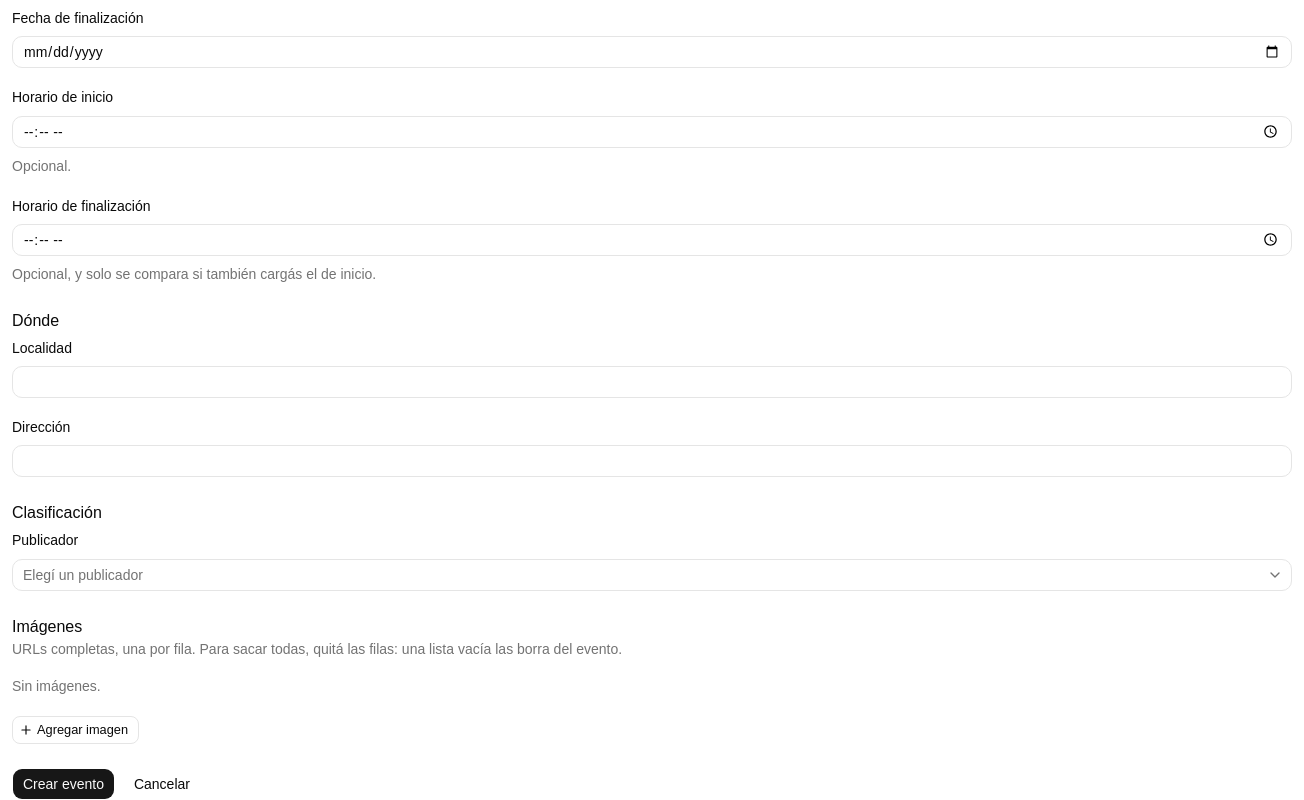
Scenario: EventoNuevoPage › no manda nada si se envía vacío y muestra los errores de campo
(page scrolled)
Click the button "Crear evento" at (63, 784), box [12,768,115,799]
(page scrolled)
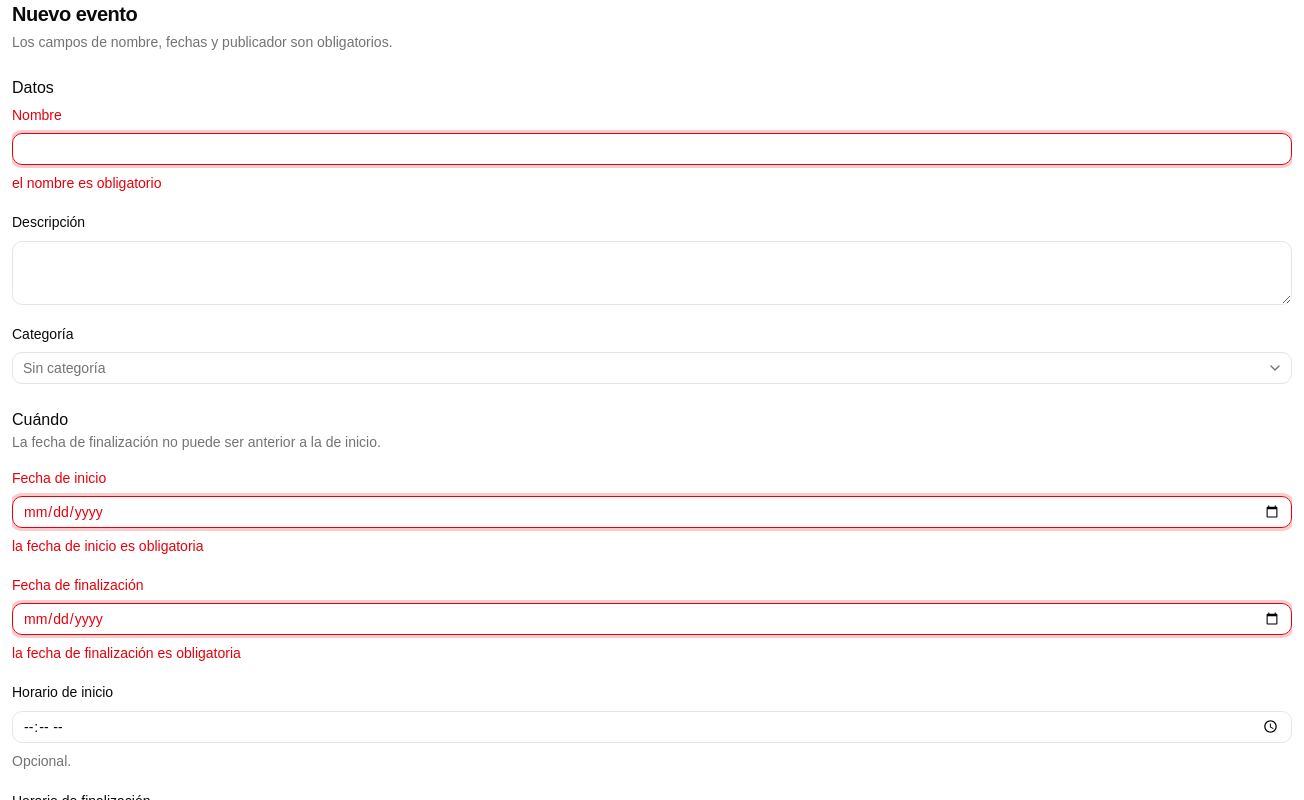
Expected: the text "el nombre es obligatorio" is shown, [12,175,161,191]
